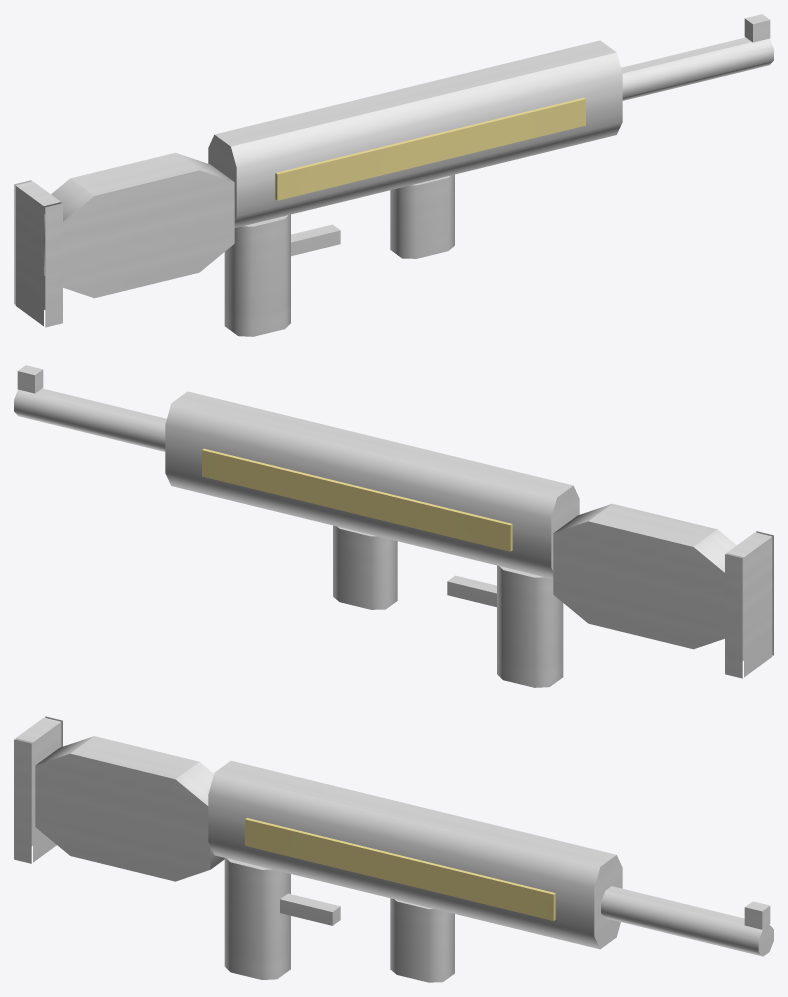
File: charge_rifle.obj
3 renders of one model, top to bottom at view 1: azimuth 30°, elevation 25°; view 2: azimuth 150°, elevation 25°; view 3: azimuth 330°, elevation 25°, orthographic.
Parts seen in each view (by area): view 1: receiver, stock_or_grip, scope_or_charge_panel, grip_or_magazine, butt_or_trigger, barrel_muzzle, magazine_or_foregrip, trigger_bridge, front_sight; view 2: receiver, stock_or_grip, scope_or_charge_panel, grip_or_magazine, butt_or_trigger, barrel_muzzle, magazine_or_foregrip, trigger_bridge, front_sight; view 3: receiver, stock_or_grip, scope_or_charge_panel, grip_or_magazine, barrel_muzzle, magazine_or_foregrip, butt_or_trigger, trigger_bridge, front_sight.
Part boxes in pixels (<box>): receiver: <box>208,40,622,227</box>; stock_or_grip: <box>44,152,234,298</box>; scope_or_charge_panel: <box>275,97,585,200</box>; grip_or_magazine: <box>224,214,290,336</box>; butt_or_trigger: <box>14,180,62,327</box>; barrel_muzzle: <box>621,37,773,100</box>; magazine_or_foregrip: <box>390,174,454,258</box>; trigger_bridge: <box>291,224,340,256</box>; front_sight: <box>744,14,770,42</box>; receiver: <box>165,391,579,578</box>; stock_or_grip: <box>553,503,736,649</box>; scope_or_charge_panel: <box>202,448,512,551</box>; grip_or_magazine: <box>497,565,563,687</box>; butt_or_trigger: <box>725,531,773,678</box>; barrel_muzzle: <box>14,388,166,451</box>; magazine_or_foregrip: <box>333,525,397,609</box>; trigger_bridge: <box>447,575,496,607</box>; front_sight: <box>17,365,43,393</box>; receiver: <box>208,760,622,949</box>; stock_or_grip: <box>35,736,224,881</box>; scope_or_charge_panel: <box>245,818,555,920</box>; grip_or_magazine: <box>224,858,290,979</box>; barrel_muzzle: <box>601,886,773,956</box>; magazine_or_foregrip: <box>390,898,454,982</box>; butt_or_trigger: <box>14,716,62,863</box>; trigger_bridge: <box>280,893,340,925</box>; front_sight: <box>744,901,770,929</box>.
Bounding box in the file's own units: 0.84 × 0.21 × 0.064.
